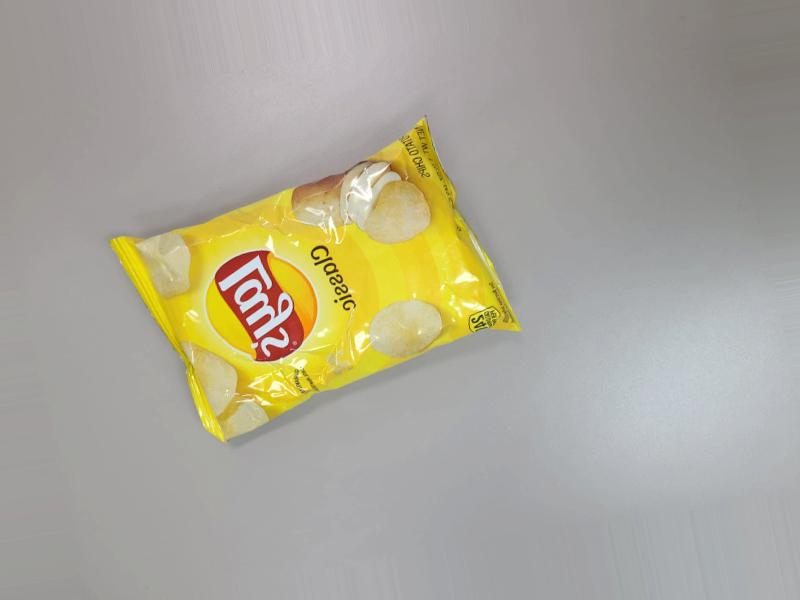lays: (127, 112, 511, 442)
